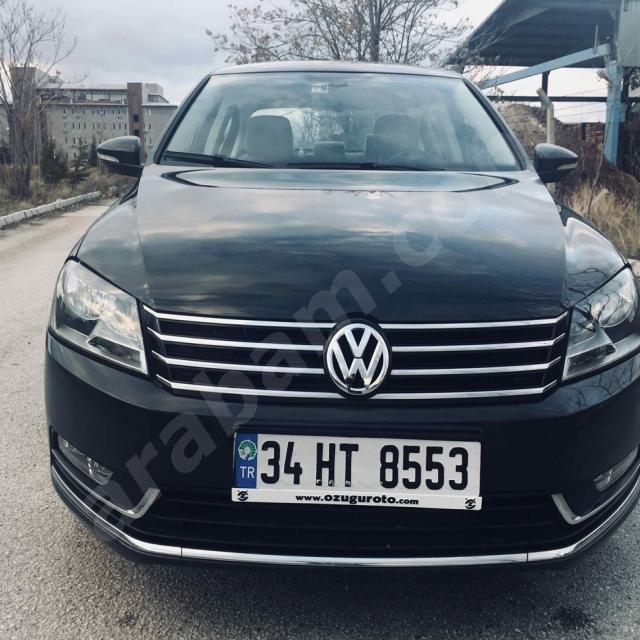license_plate: (233, 431, 481, 498)
